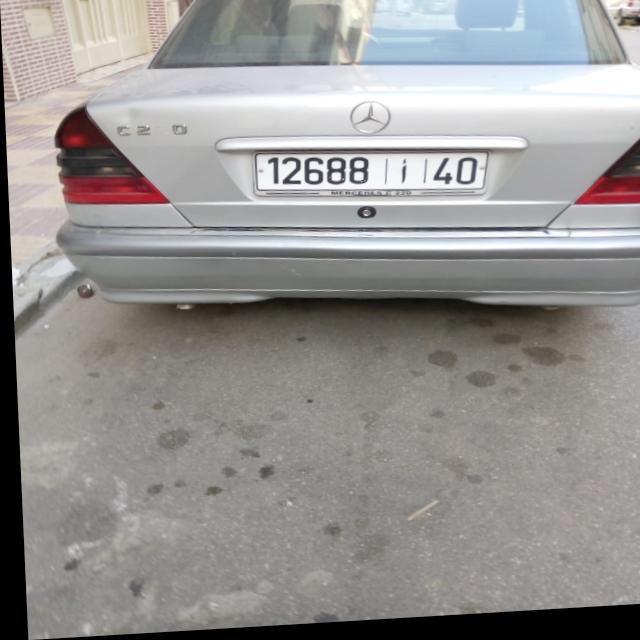License-Plate: (253, 156, 487, 201)
